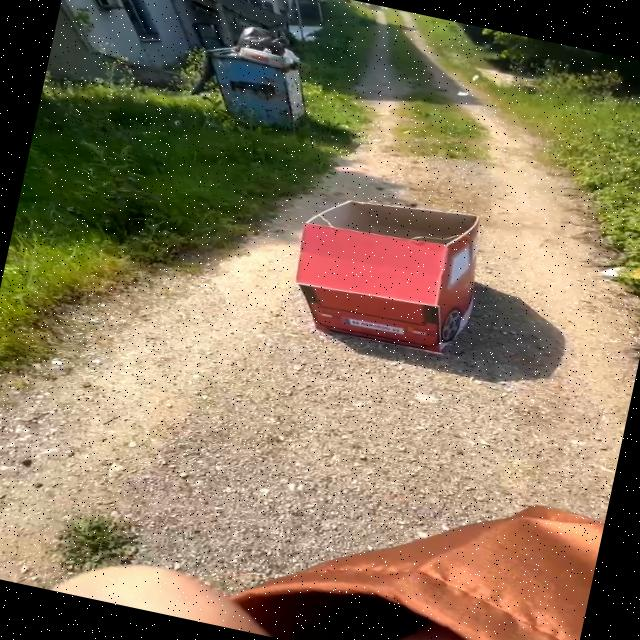red_car: (270, 172, 522, 380)
